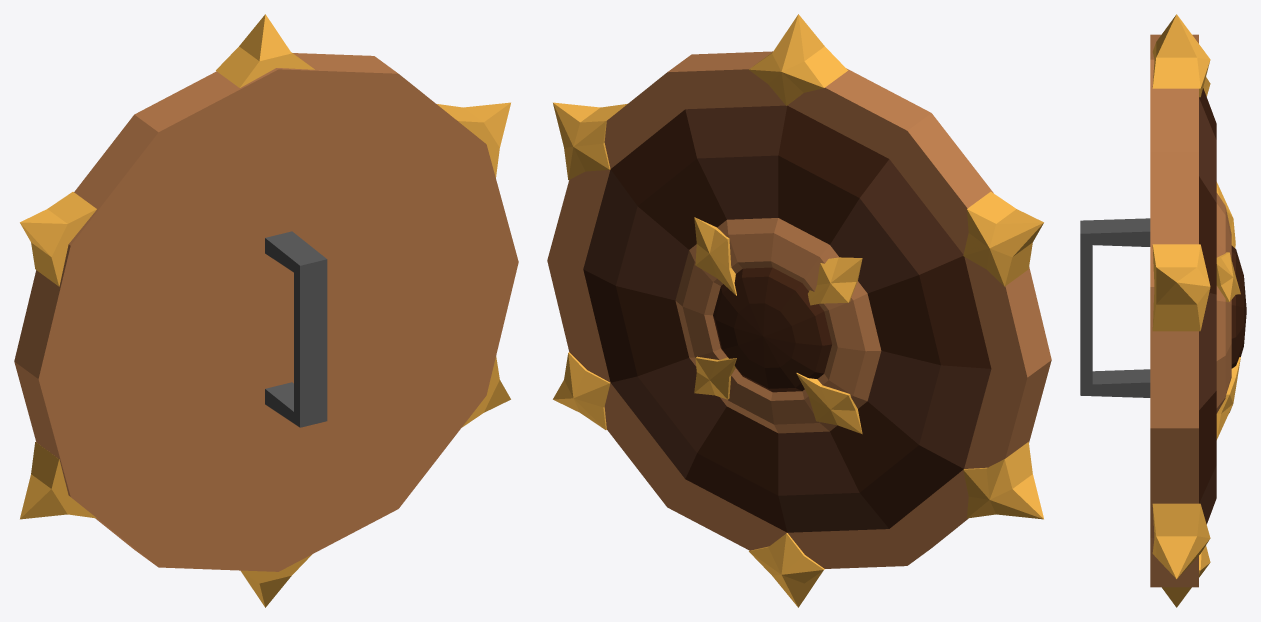
The model's file is Shield 02.fbx.
3 renders of one model, left to right at view 1: azimuth 30°, elevation 25°; view 2: azimuth 150°, elevation 25°; view 3: azimuth 270°, elevation 25°, orthographic.
Visible parts, largest first — view 1: Shield_02; view 2: Shield_02; view 3: Shield_02.
Boxes of the visible parts, left/top/right/bottom form: Shield_02: left=14, top=14, right=518, bottom=607; Shield_02: left=547, top=14, right=1051, bottom=607; Shield_02: left=1080, top=14, right=1246, bottom=607.
Bounding box in the file's own units: 67.18 × 19.72 × 77.58.
